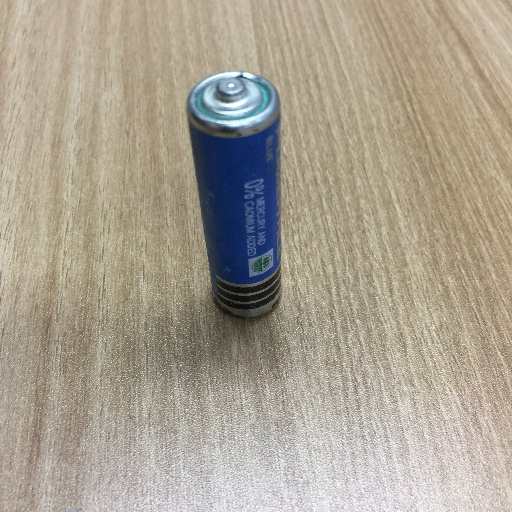Battery_0: (182, 57, 298, 338)
